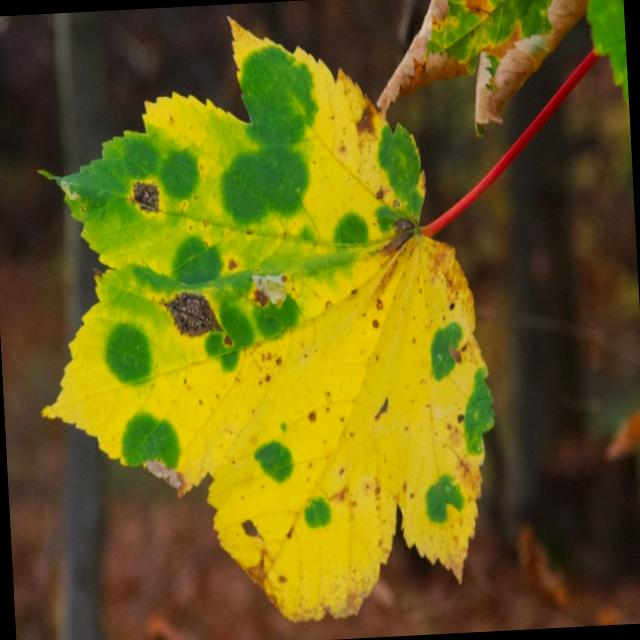leaf_spot: (45, 21, 492, 618)
